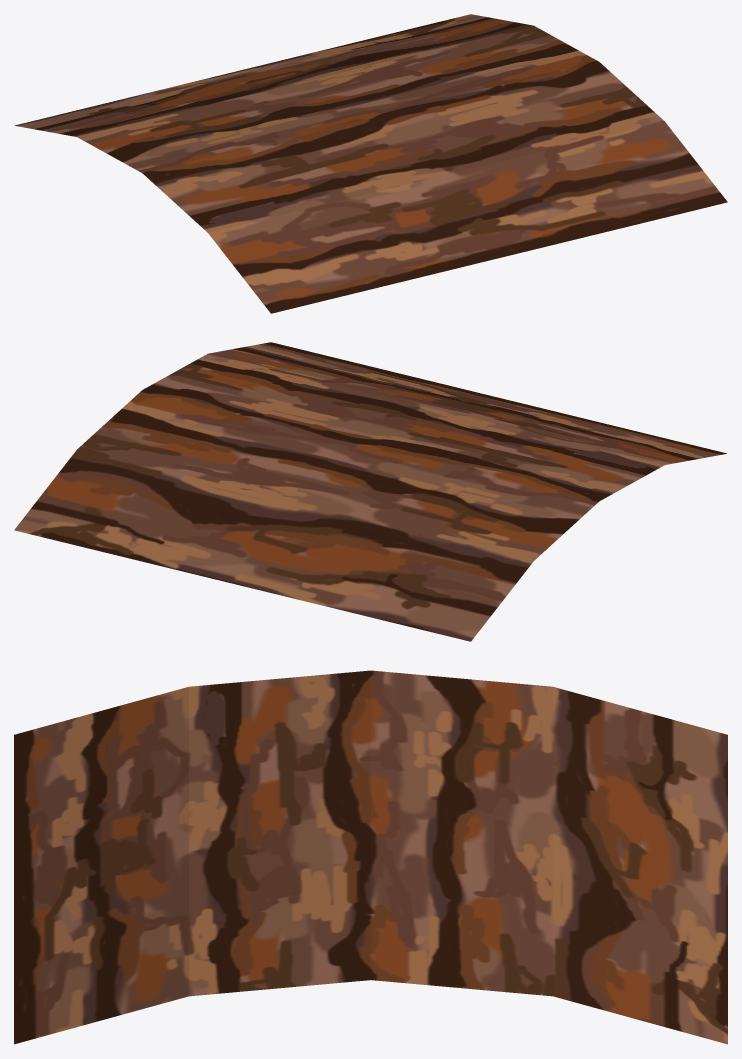
The model's file is basic_lane_tile.fbx.
3 renders of one model, top to bottom at view 1: azimuth 30°, elevation 25°; view 2: azimuth 150°, elevation 25°; view 3: azimuth 270°, elevation 25°, orthographic. The views are drawn at different scales.
Parts seen in each view (by area): view 1: Cylinder.004; view 2: Cylinder.004; view 3: Cylinder.004.
Part boxes in pixels (box(x1,y1,x2,y2)): Cylinder.004: box(15, 14, 727, 313); Cylinder.004: box(14, 342, 726, 641); Cylinder.004: box(14, 670, 727, 1044).
Size of the model in its own units: 195 by 200 by 19.38.
Materials: 1 (1 with a texture image).
